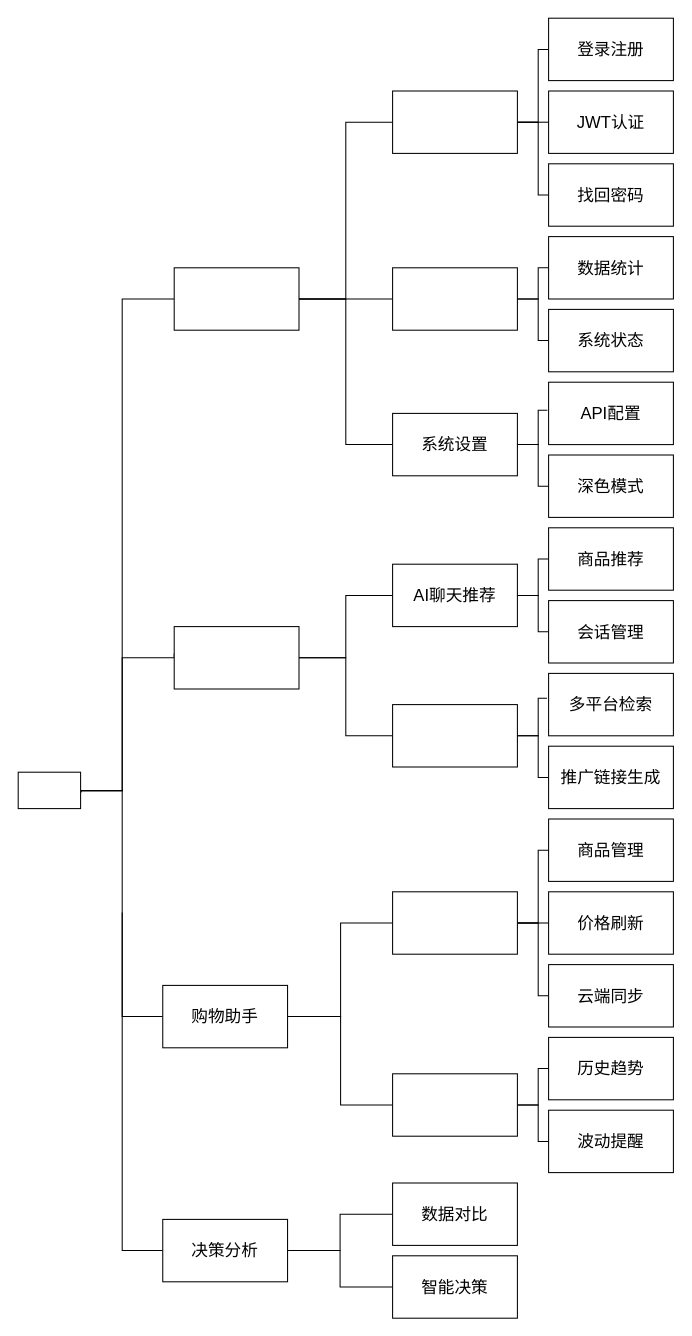
This 692x1336 diagram has some shape labels left out. The shapes that lost their labels are listed below. From the top down, each one's centre as x and y in pixels, then its label:
At (x=454, y=121): "用户认证".
At (x=236, y=298): "用户与系统中心".
At (x=454, y=298): "管理员后台".
At (x=236, y=657): "核心搜索与AI".
At (x=454, y=735): "商品搜索".
At (x=49, y=790): "WisePick".
At (x=454, y=922): "购物车管理".
At (x=454, y=1104): "价格历史".
